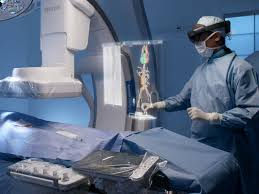hololens: (186, 19, 232, 45)
